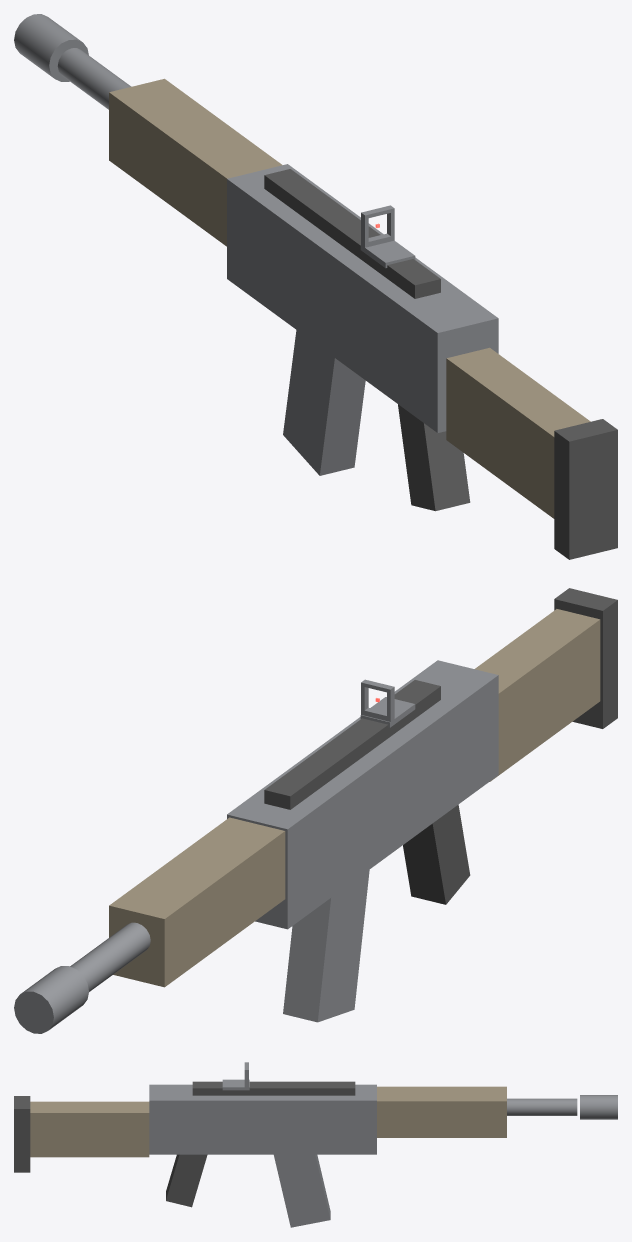
The model's file is rifle.gltf.
3 renders of one model, top to bottom at view 1: azimuth 30°, elevation 25°; view 2: azimuth 150°, elevation 25°; view 3: azimuth 270°, elevation 25°, orthographic. The views are drawn at different scales.
Parts seen in each view (by area): view 1: Receiver, Handguard, Stock, Butt Pad, Magazine, Rail, Grip, Muzzle Brake, Barrel, Sight Base; view 2: Receiver, Handguard, Stock, Magazine, Rail, Grip, Butt Pad, Muzzle Brake, Barrel, Sight Base; view 3: Receiver, Stock, Handguard, Magazine, Rail, Grip, Butt Pad, Barrel, Muzzle Brake, Sight Base.
Boxes of the visible parts, x1=… form: Receiver: x1=227, y1=164, x2=498, y2=432; Handguard: x1=109, y1=78, x2=282, y2=246; Stock: x1=446, y1=347, x2=590, y2=518; Butt Pad: x1=554, y1=419, x2=617, y2=559; Magazine: x1=283, y1=330, x2=365, y2=475; Rail: x1=264, y1=169, x2=440, y2=298; Grip: x1=398, y1=404, x2=470, y2=511; Muzzle Brake: x1=14, y1=14, x2=88, y2=81; Barrel: x1=57, y1=48, x2=131, y2=109; Sight Base: x1=360, y1=240, x2=415, y2=268; Receiver: x1=227, y1=660, x2=498, y2=929; Handguard: x1=109, y1=817, x2=285, y2=987; Stock: x1=474, y1=609, x2=600, y2=781; Magazine: x1=283, y1=870, x2=369, y2=1022; Rail: x1=264, y1=680, x2=440, y2=809; Grip: x1=403, y1=804, x2=470, y2=904; Butt Pad: x1=554, y1=588, x2=617, y2=728; Muzzle Brake: x1=14, y1=966, x2=88, y2=1033; Barrel: x1=70, y1=922, x2=150, y2=991; Sight Base: x1=360, y1=697, x2=415, y2=727; Receiver: x1=149, y1=1084, x2=376, y2=1154; Stock: x1=30, y1=1101, x2=149, y2=1157; Handguard: x1=377, y1=1086, x2=506, y2=1137; Magazine: x1=274, y1=1154, x2=330, y2=1227; Rail: x1=192, y1=1081, x2=355, y2=1095; Grip: x1=166, y1=1154, x2=207, y2=1207; Butt Pad: x1=14, y1=1096, x2=30, y2=1172; Barrel: x1=507, y1=1098, x2=577, y2=1115; Muzzle Brake: x1=580, y1=1095, x2=617, y2=1119; Sight Base: x1=222, y1=1079, x2=249, y2=1090.
Bounding box in the file's own units: 0.07 × 0.3199 × 1.11.
